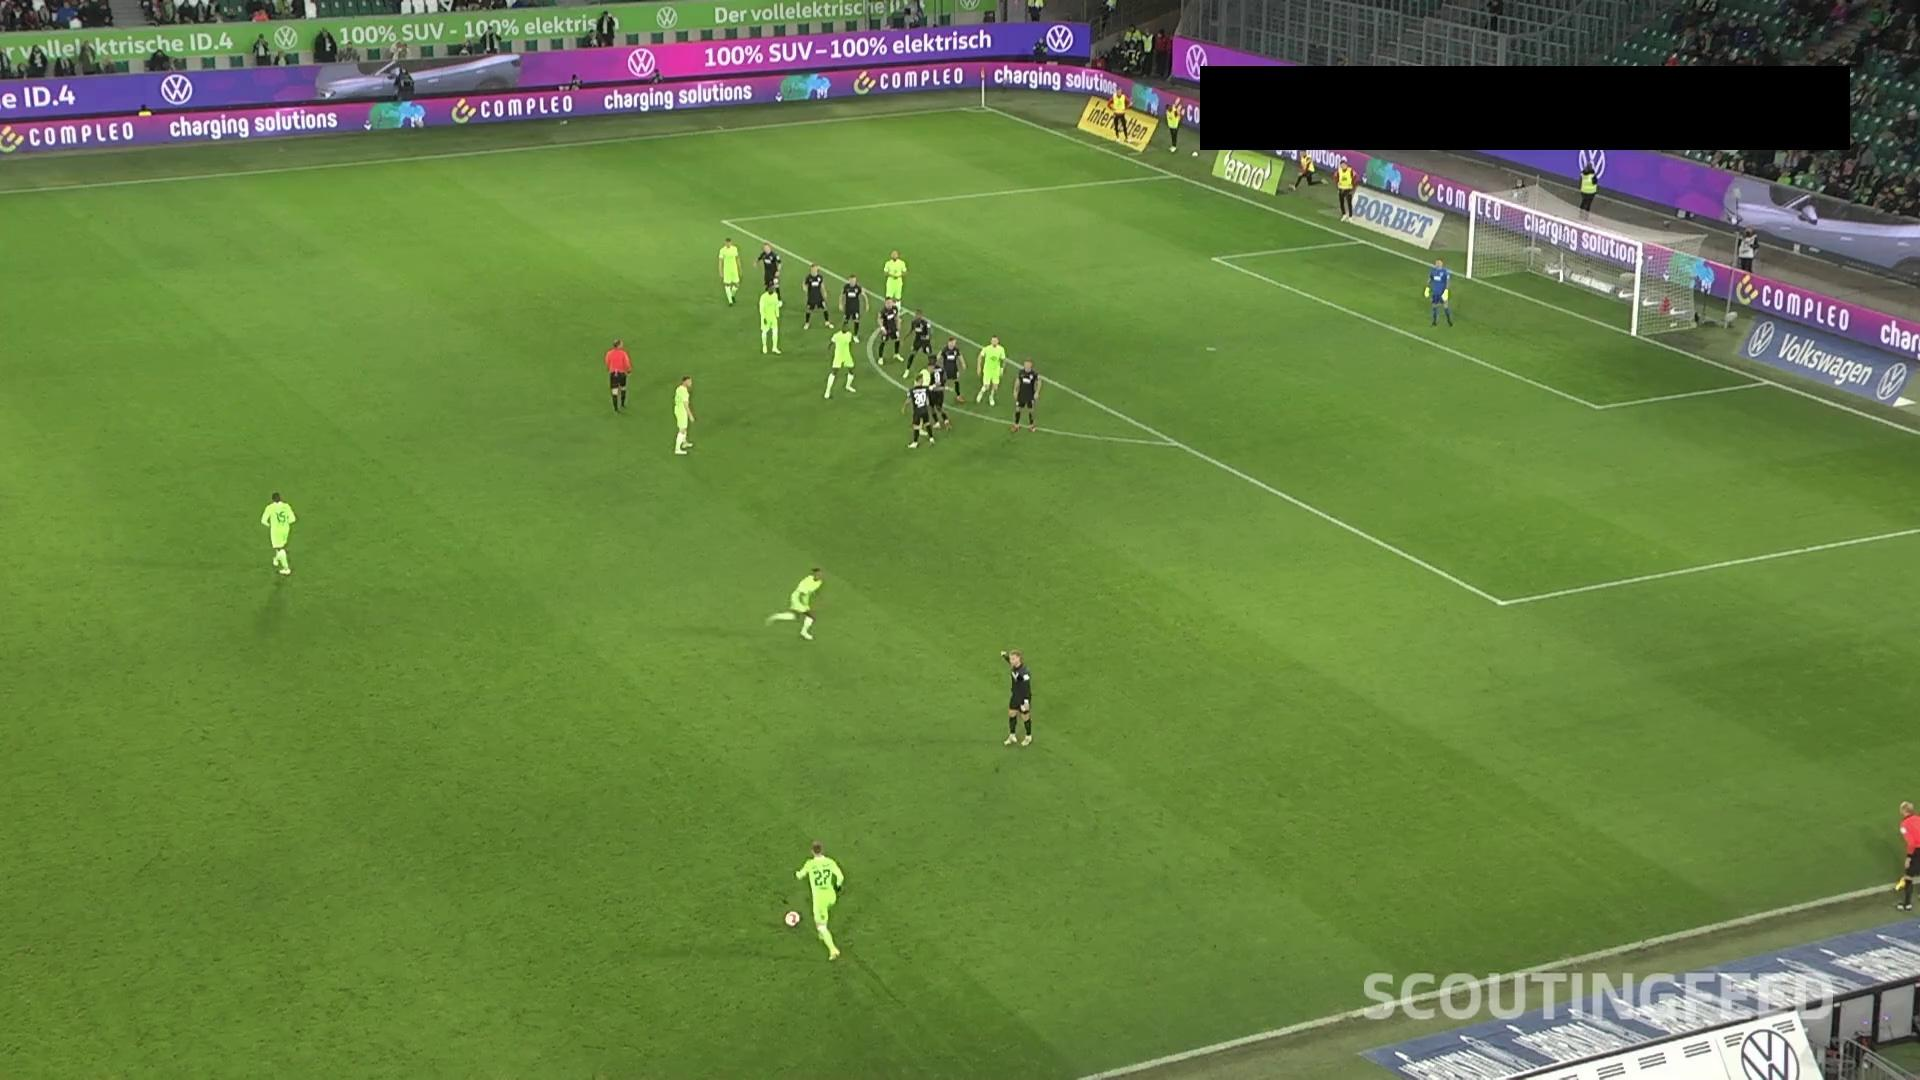Location-of-ball: (773, 899, 815, 942)
